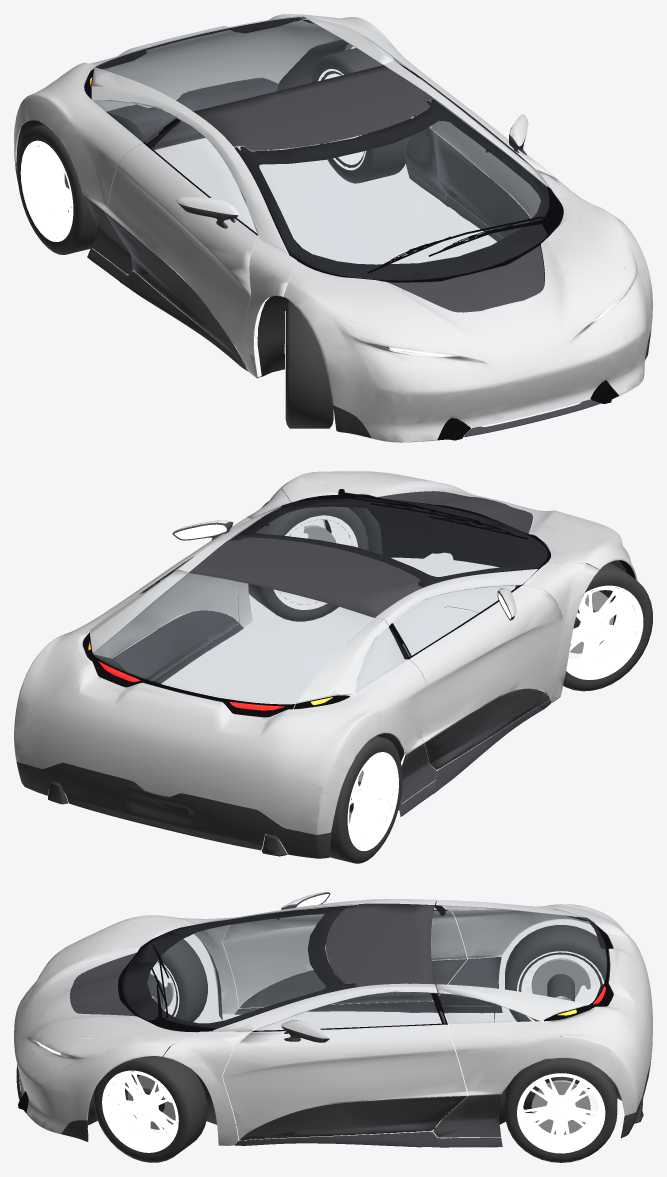
The model's file is car-concept.glb.
3 renders of one model, top to bottom at view 1: azimuth 30°, elevation 25°; view 2: azimuth 150°, elevation 25°; view 3: azimuth 270°, elevation 25°, orthographic. The views are drawn at different scales.
Parts seen in each view (by area): view 1: BodyUnderside; view 2: BodyUnderside; view 3: BodyUnderside.
Boxes of the visible parts, x1,y1,x2,y2 form: BodyUnderside: (14, 14, 652, 442); BodyUnderside: (14, 471, 652, 863); BodyUnderside: (14, 892, 652, 1162).
Bounding box in the file's own units: 2.68 × 1.21 × 4.6.
Materials: 15 (1 with a texture image).
